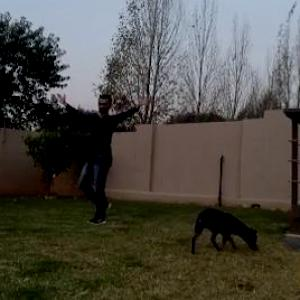takeoff: (51, 91, 172, 222)
